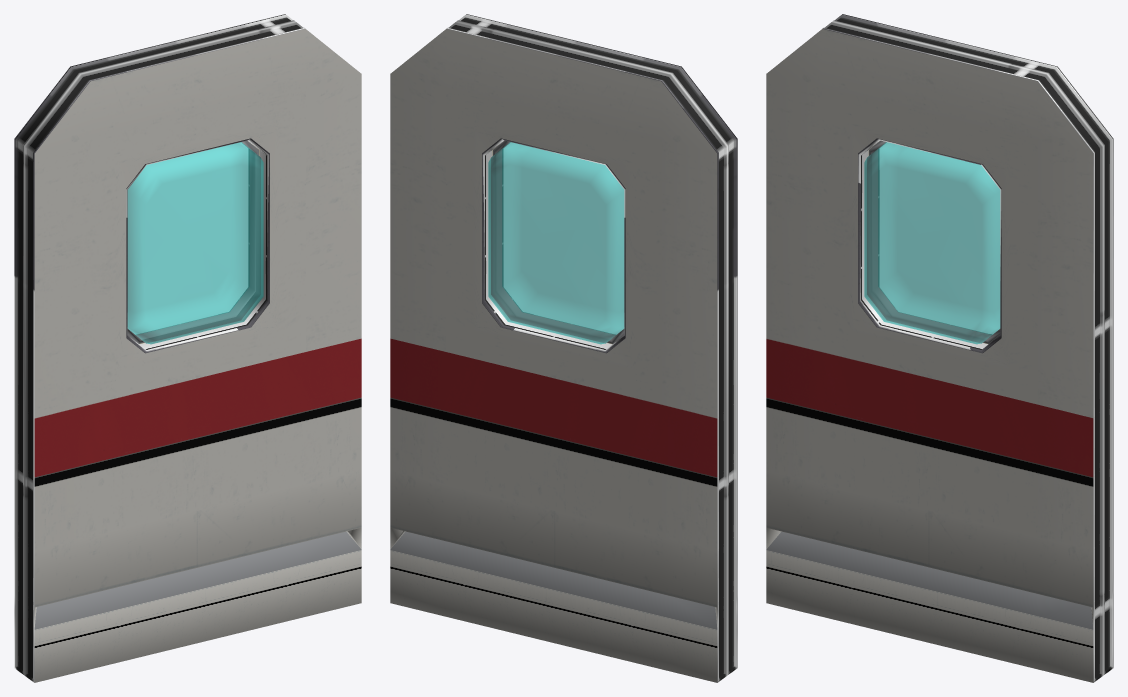
Rendered from G_Env_Arch_Door_00_Window.fbx.
The picture shows the model from 3 angles, left to right: view 1: azimuth 30°, elevation 25°; view 2: azimuth 150°, elevation 25°; view 3: azimuth 330°, elevation 25°; orthographic projection.
Parts seen in each view (by area): view 1: G_Env_Arch_Door_00_Window; view 2: G_Env_Arch_Door_00_Window; view 3: G_Env_Arch_Door_00_Window.
Part boxes in pixels (bbox=[...]): G_Env_Arch_Door_00_Window: bbox=[14, 14, 361, 682]; G_Env_Arch_Door_00_Window: bbox=[390, 14, 737, 682]; G_Env_Arch_Door_00_Window: bbox=[766, 14, 1113, 682].
Size of the model in its own units: 398 by 683 by 59.09.
